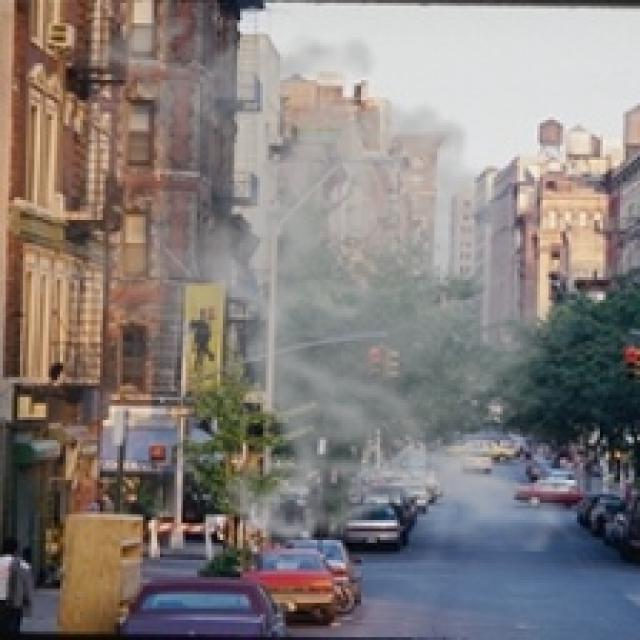Smoke: (31, 0, 592, 552)
